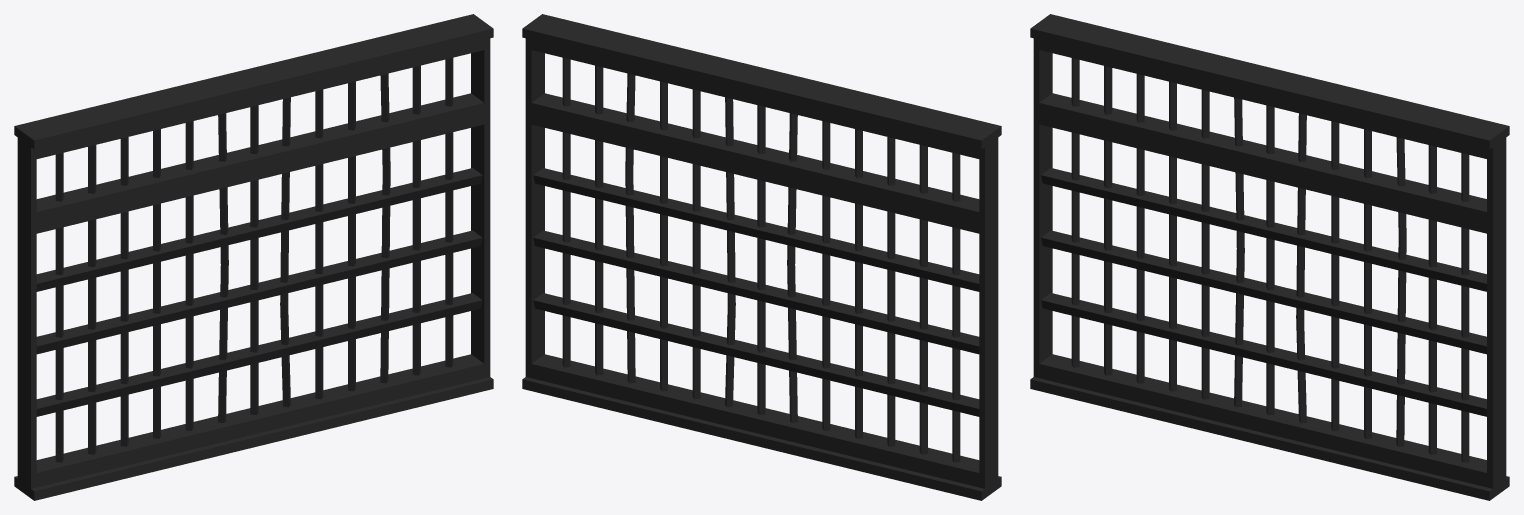
The model's file is dungeon-wall-prison.glb.
3 renders of one model, left to right at view 1: azimuth 30°, elevation 25°; view 2: azimuth 150°, elevation 25°; view 3: azimuth 330°, elevation 25°, orthographic.
Visible parts, largest first — view 1: dungeon-wall-prison; view 2: dungeon-wall-prison; view 3: dungeon-wall-prison.
Part boxes in pixels (x1,y1,x2,y2): dungeon-wall-prison: (14,14,493,500); dungeon-wall-prison: (522,14,1001,500); dungeon-wall-prison: (1030,14,1509,500).
Size of the model in its own units: 4 by 3 by 0.3.
1 material, 1 textured.
